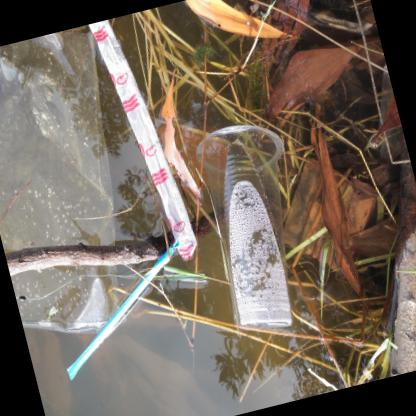Plastic: (0, 30, 121, 333), (88, 19, 197, 259), (196, 124, 293, 327), (67, 237, 179, 379), (379, 62, 401, 161)
